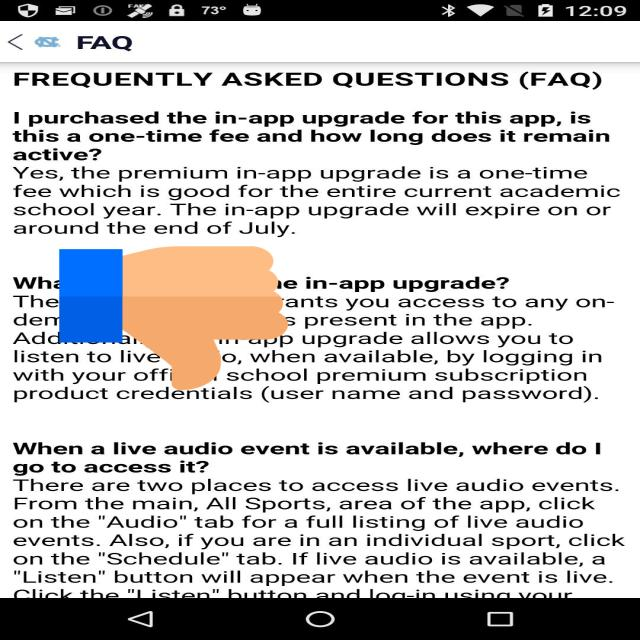obstruction: (59, 242, 288, 394)
